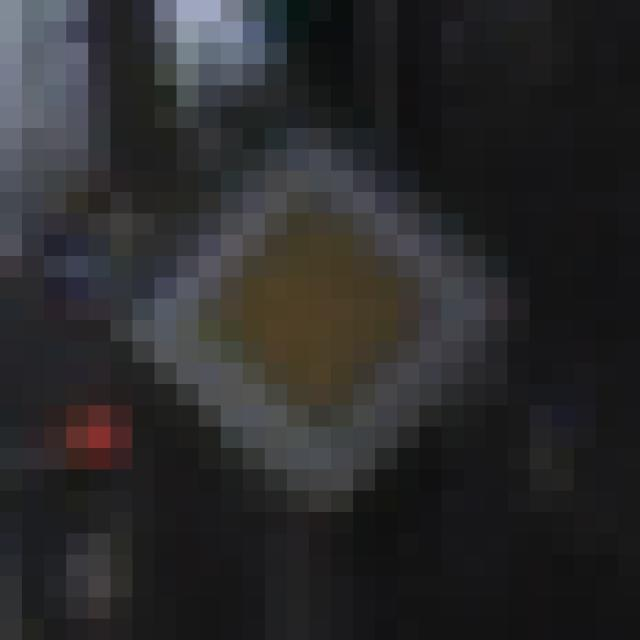Main Road: (111, 108, 531, 534)
